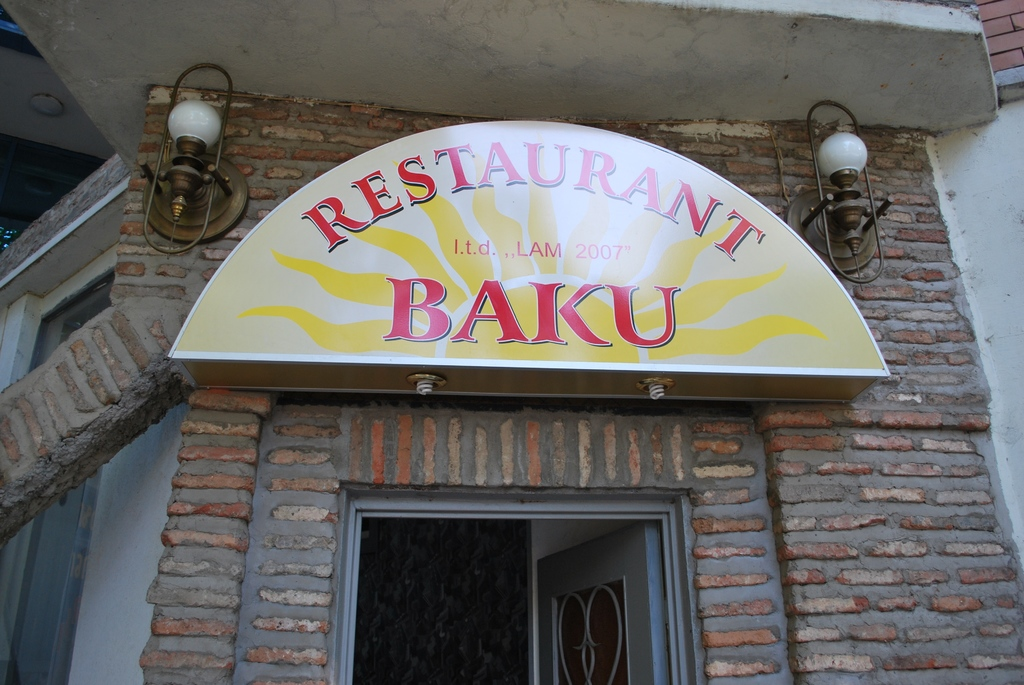Door: (531, 514, 658, 684)
